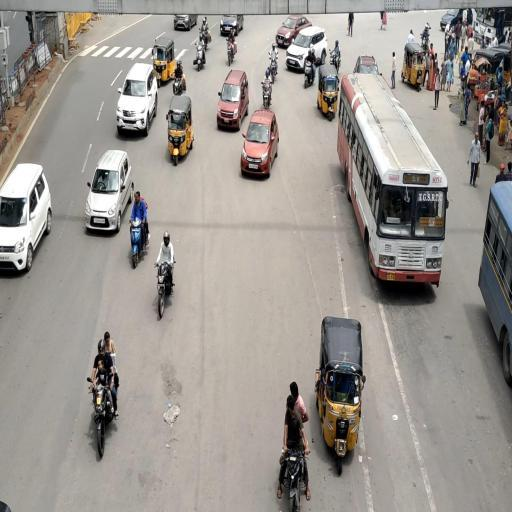helmet: (85, 326, 120, 460), (157, 224, 186, 314)
no helmet: (273, 373, 348, 482)
